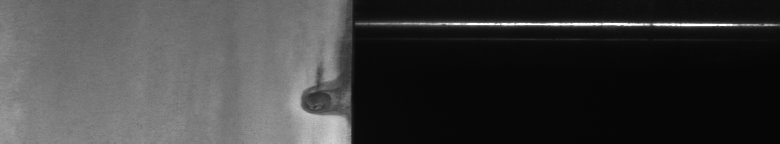hb: (292, 37, 340, 124)
